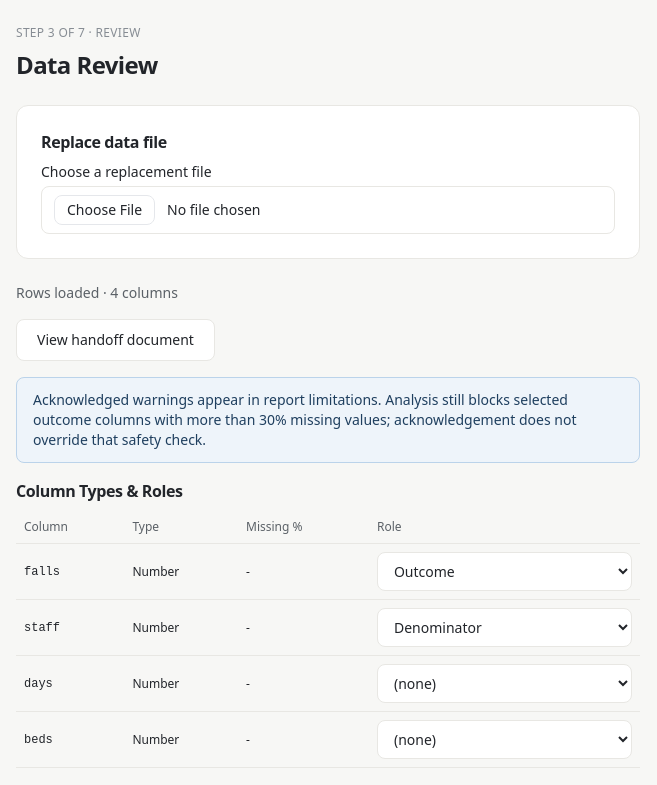
Test: denominator conflict note › shows no note for one denominator and updates when a second is chosen
This screenshot has width=657, height=785.
Expected: the text "set as Denominator" is not shown
Select "Denominator" in the dropdown named "Role for days" in the row of "days" at {"x": 504, "y": 684}, box [377,664,632,703]
(page scrolled)
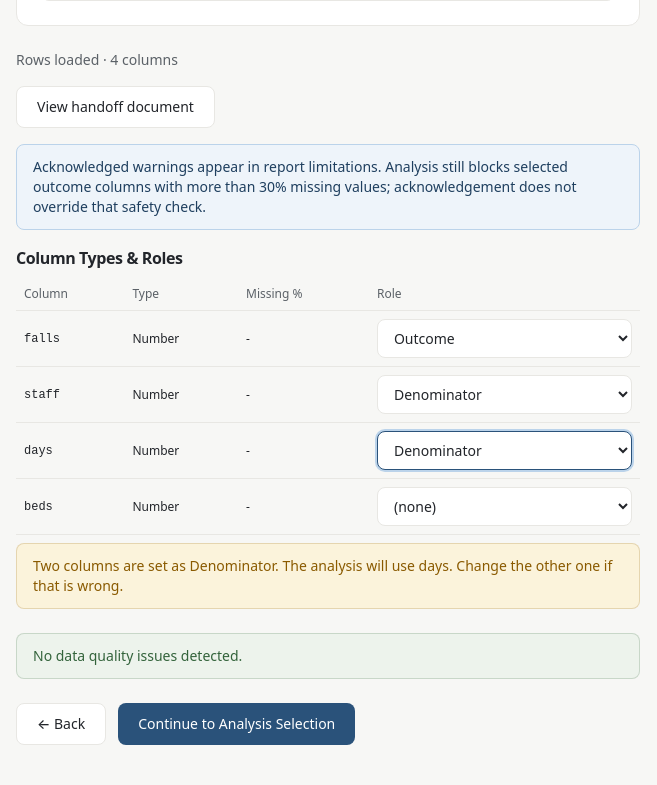
Result: the message shows "The analysis will use days." at [16,543,640,609]
